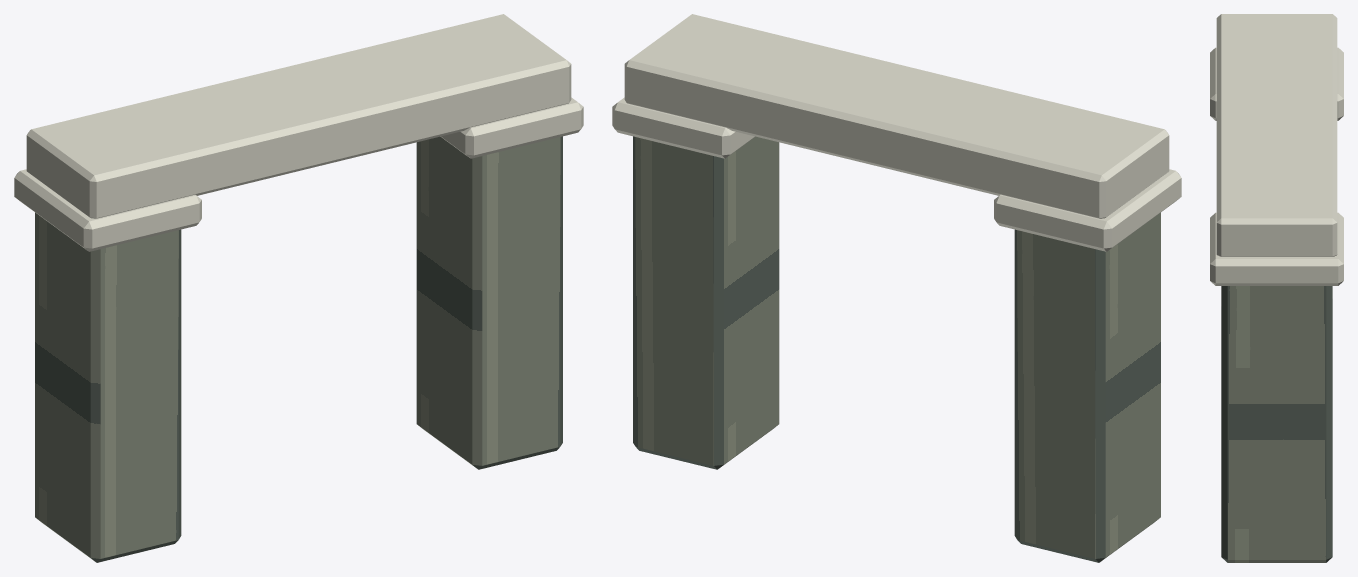
File: gate_open.glb
3 renders of one model, left to right at view 1: azimuth 30°, elevation 25°; view 2: azimuth 150°, elevation 25°; view 3: azimuth 270°, elevation 25°, orthographic. The views are drawn at different scales.
Parts seen in each view (by area): view 1: Arch_lintel, Pillar, Pillar.001, Pillar_cap, Pillar_cap.001; view 2: Arch_lintel, Pillar, Pillar.001, Pillar_cap, Pillar_cap.001; view 3: Pillar.001, Arch_lintel, Pillar_cap.001, Pillar_cap.
Part boxes in pixels (x1,y1,x2,y2): Arch_lintel: (26,14,571,218); Pillar: (35,212,181,562); Pillar.001: (416,136,562,469); Pillar_cap: (14,169,201,251); Pillar_cap.001: (440,97,583,158); Arch_lintel: (624,14,1169,218); Pillar: (1014,212,1160,562); Pillar.001: (633,136,779,469); Pillar_cap: (994,169,1181,251); Pillar_cap.001: (612,97,755,158); Pillar.001: (1221,286,1332,562); Arch_lintel: (1216,14,1337,256); Pillar_cap.001: (1210,212,1343,285); Pillar_cap: (1210,47,1343,120).
Bounding box in the file's own units: 2.75 × 2.06 × 0.72.
2 materials, 1 textured.
